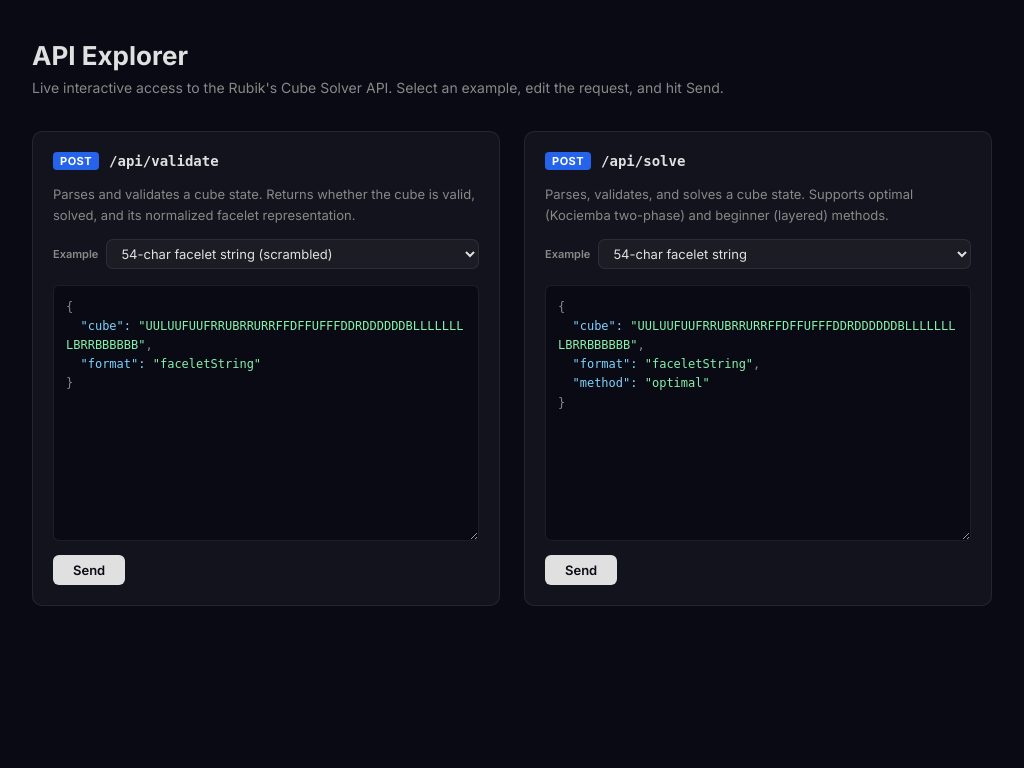
Scenario: ApiExplorerPage › sends solve request and shows response
Click the button "Send" below "\"method\":": {"x": 581, "y": 570} [545,555,617,585]
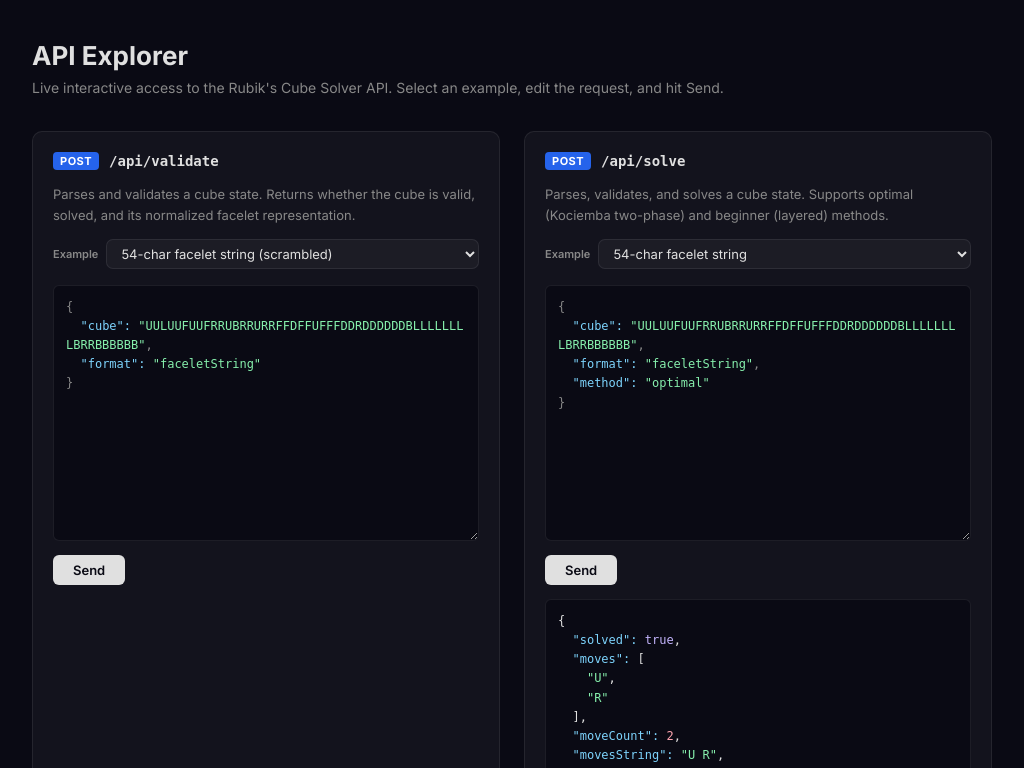
Expected: the text "\"solved\":" is shown, [572,633,638,647]
